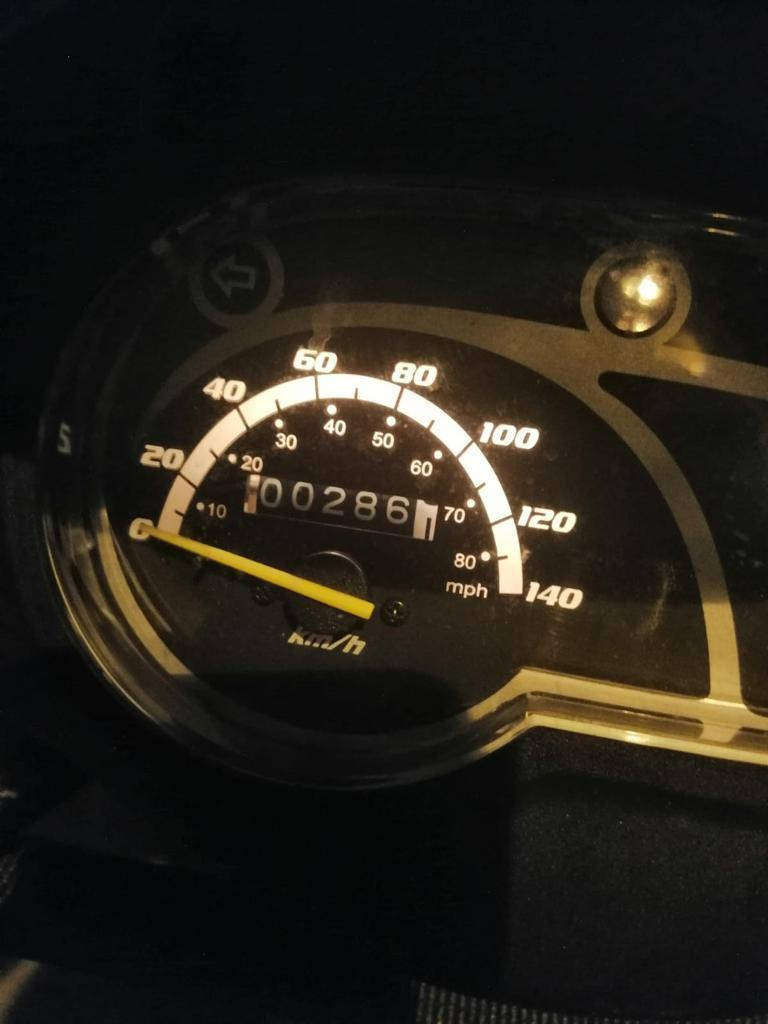0: (290, 479, 314, 511), (259, 476, 282, 508)
1: (421, 516, 434, 540)
2: (320, 485, 346, 516)
6: (384, 494, 411, 524)
8: (353, 490, 378, 521)
odometer: (241, 472, 440, 542)
